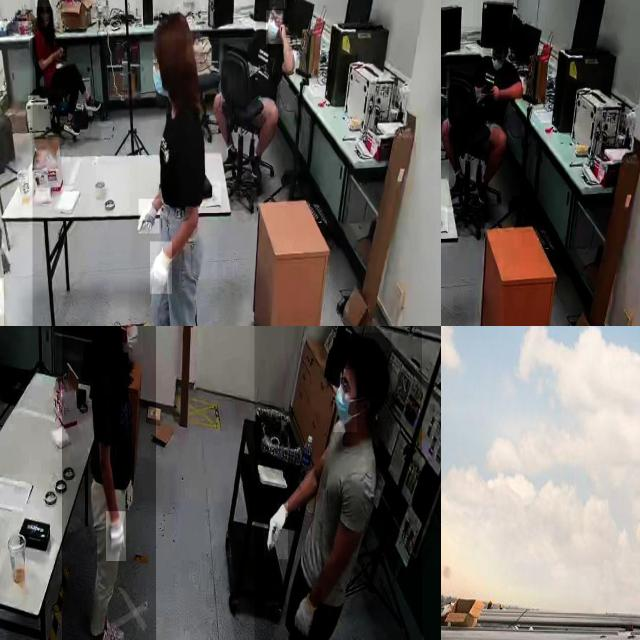face_mask: (333, 369, 357, 432), (146, 44, 171, 98), (118, 326, 143, 355), (266, 10, 284, 44), (492, 46, 504, 76)
face_nomask: (40, 10, 50, 26)
hand_glove: (264, 496, 288, 559), (293, 587, 322, 637), (150, 241, 172, 295), (106, 511, 126, 562), (138, 199, 160, 234)
hand_noglove: (52, 44, 68, 63), (482, 82, 494, 104), (487, 84, 499, 102), (278, 22, 288, 39)
head_nohelmet: (340, 332, 392, 367), (150, 10, 192, 40), (492, 30, 508, 45), (269, 0, 286, 9), (34, 0, 51, 7)
person: (254, 326, 422, 640), (61, 326, 156, 640), (138, 0, 217, 326), (449, 26, 531, 208), (30, 0, 102, 141), (0, 21, 32, 326), (250, 2, 298, 176)
shoes: (93, 612, 126, 640), (88, 627, 123, 640)
